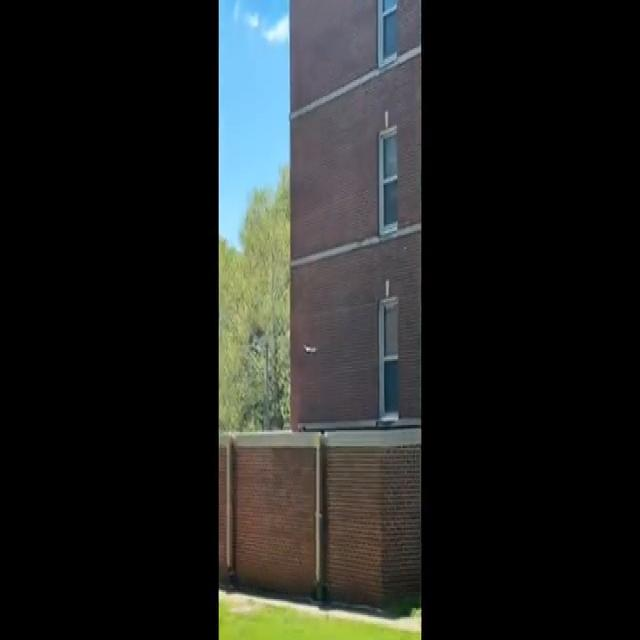drone: (298, 335, 320, 361)
